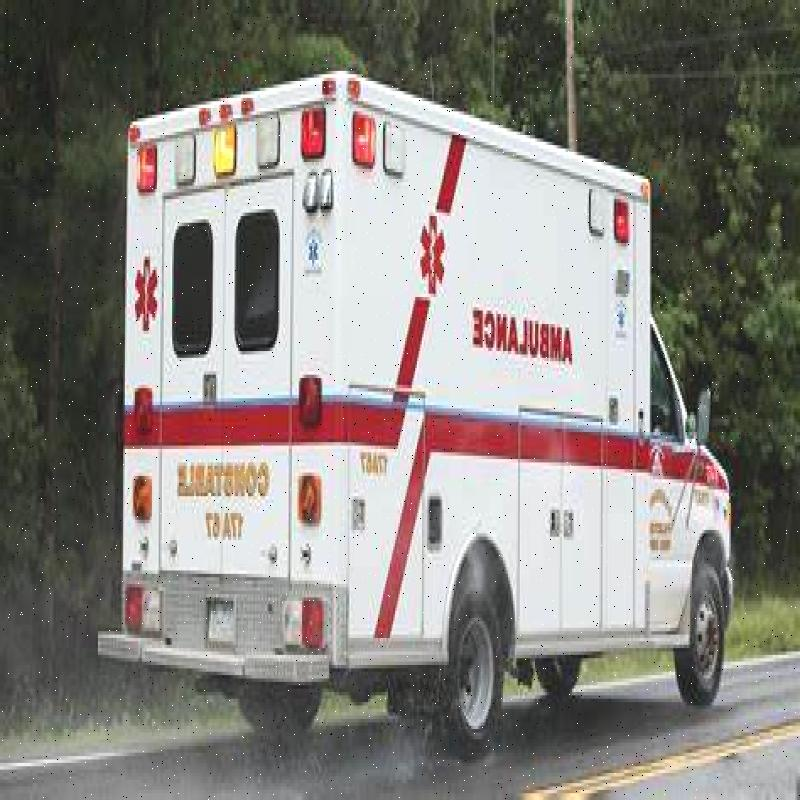AmbulanceSiren: (123, 78, 352, 208)
